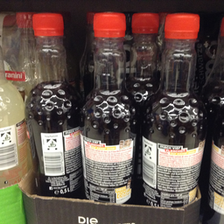soda: (140, 12, 207, 209), (83, 11, 139, 204), (26, 13, 82, 196)
